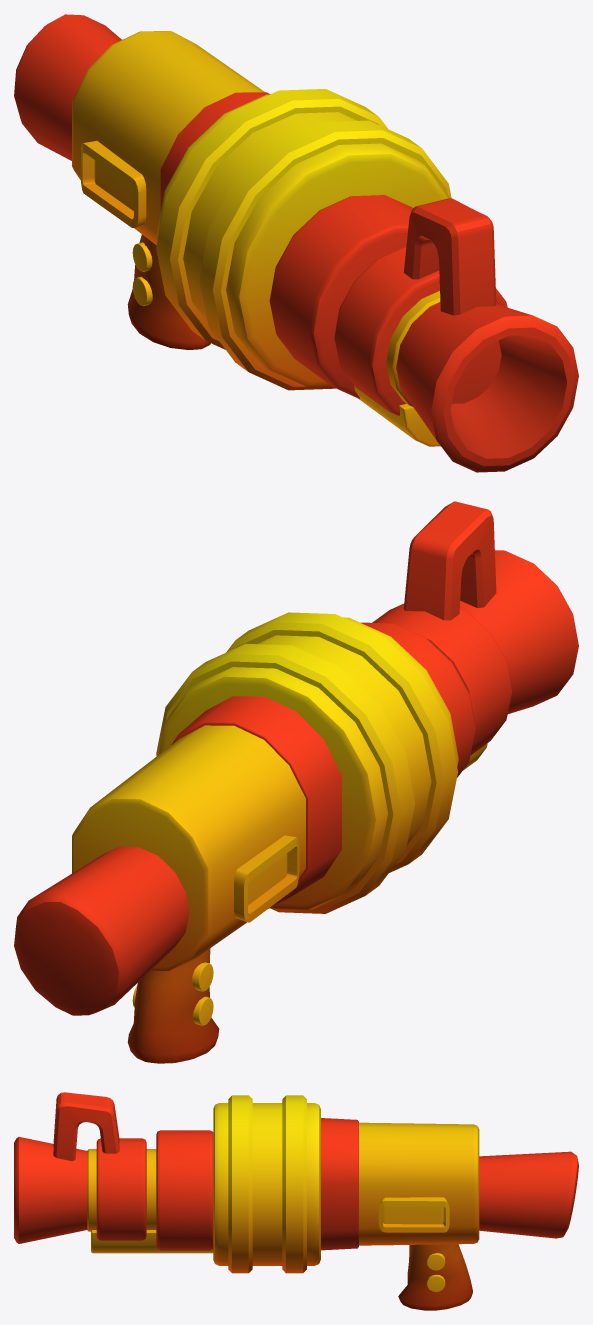
The model's file is Firegun.fbx.
3 renders of one model, top to bottom at view 1: azimuth 30°, elevation 25°; view 2: azimuth 150°, elevation 25°; view 3: azimuth 270°, elevation 25°, orthographic. The views are drawn at different scales.
Parts seen in each view (by area): view 1: Firegun; view 2: Firegun; view 3: Firegun.
Part boxes in pixels (bbox=[...]): Firegun: bbox=[14, 14, 578, 472]; Firegun: bbox=[14, 501, 578, 1063]; Firegun: bbox=[14, 1092, 578, 1310].
Bounding box in the file's own units: 38.46 × 49.24 × 122.
1 material, 1 textured.
